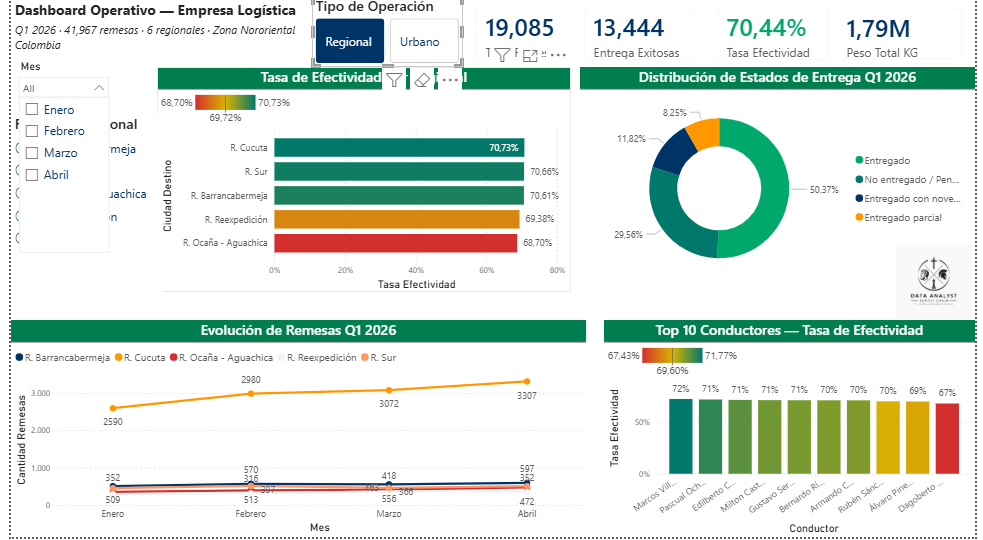

The dashboard page shown, as its layout file describes it:
{"tool":"powerbi","page":{"name":"Dashboard OP","canvas":[1280,720],"ordinal":0},"visuals":[{"type":"cardVisual","fields":{"Data":["aldia_Q1_detalle_powerbi (1).Peso Total KG"]},"box":[1080,1.7,200,101.7],"z":0},{"type":"cardVisual","fields":{"Data":["aldia_Q1_detalle_powerbi (1).Tasa Efectividad"]},"box":[920,0,183.3,103.3],"z":1000},{"type":"cardVisual","fields":{"Data":["aldia_Q1_detalle_powerbi (1).Total Remesas"]},"box":[600,0,163.3,103.3],"z":2000},{"type":"cardVisual","fields":{"Data":["aldia_Q1_detalle_powerbi (1).Entrega Exitosas"]},"box":[743.3,0,180,103.3],"z":3000},{"type":"clusteredBarChart","title":"Tasa de Efectividad por Regional","fields":{"Y":["aldia_Q1_detalle_powerbi (1).Tasa Efectividad"],"Category":["aldia_Q1_detalle_powerbi (1).Regional_clean"]},"box":[193.3,95,550,300],"z":4000},{"type":"slicer","fields":{"Values":["aldia_Q1_detalle_powerbi (1).Mes"]},"box":[0,81.7,140,76.7],"z":5000},{"type":"lineChart","title":"Evolución de Remesas Q1 2026","fields":{"Category":["aldia_Q1_detalle_powerbi (1).Mes"],"Series":["aldia_Q1_detalle_powerbi (1).Regional_clean"],"Y":["aldia_Q1_detalle_powerbi (1).Cantidad Remesas"]},"box":[0,431.7,763.9,288.3],"z":6000},{"type":"clusteredColumnChart","title":"Top 10 Conductores — Tasa de Efectividad","fields":{"Category":["aldia_Q1_detalle_powerbi (1).Conductor"],"Y":["aldia_Q1_detalle_powerbi (1).Tasa Efectividad"]},"box":[787.7,431.7,492.8,288.3],"z":7000},{"type":"donutChart","title":"Distribución de Estados de Entrega Q1 2026","fields":{"Y":["aldia_Q1_detalle_powerbi (1).Total Remesas"],"Category":["aldia_Q1_detalle_powerbi (1).Estado Agrupado"]},"box":[755.9,95.6,524.7,292.3],"z":8000},{"type":"listSlicer","fields":{"Values":["aldia_Q1_detalle_powerbi (1).Regional_clean"]},"box":[0,158.3,201.7,256.7],"z":9000},{"type":"advancedSlicerVisual","fields":{"Values":["aldia_Q1_detalle_powerbi (1).Tipo_Operacion"]},"box":[399.9,1.3,200.6,94.3],"z":10000},{"type":"image","box":[1170.3,330.8,110.3,101],"z":11000},{"type":"textbox","box":[0,1.5,399.5,80.5],"z":12000},{"type":"textbox","box":[0,30.7,399.5,51.2],"z":13000}]}

Visuals, with their boxes on the page's 1280x720 design canvas (x1, y1, x2, y2). These are canvas units, not pixel positions in the 983x540 screenshot, which may show the page scaled, cropped or inside an application window:
cardVisual - aldia_Q1_detalle_powerbi (1).Peso Total KG: <bbox>1080, 2, 1280, 103</bbox>
cardVisual - aldia_Q1_detalle_powerbi (1).Tasa Efectividad: <bbox>920, 0, 1103, 103</bbox>
cardVisual - aldia_Q1_detalle_powerbi (1).Total Remesas: <bbox>600, 0, 763, 103</bbox>
cardVisual - aldia_Q1_detalle_powerbi (1).Entrega Exitosas: <bbox>743, 0, 923, 103</bbox>
"Tasa de Efectividad por Regional" clusteredBarChart: <bbox>193, 95, 743, 395</bbox>
slicer - aldia_Q1_detalle_powerbi (1).Mes: <bbox>0, 82, 140, 158</bbox>
"Evolución de Remesas Q1 2026" lineChart: <bbox>0, 432, 764, 720</bbox>
"Top 10 Conductores — Tasa de Efectividad" clusteredColumnChart: <bbox>788, 432, 1280, 720</bbox>
"Distribución de Estados de Entrega Q1 2026" donutChart: <bbox>756, 96, 1281, 388</bbox>
listSlicer - aldia_Q1_detalle_powerbi (1).Regional_clean: <bbox>0, 158, 202, 415</bbox>
advancedSlicerVisual - aldia_Q1_detalle_powerbi (1).Tipo_Operacion: <bbox>400, 1, 600, 96</bbox>
image: <bbox>1170, 331, 1281, 432</bbox>
textbox: <bbox>0, 2, 400, 82</bbox>
textbox: <bbox>0, 31, 400, 82</bbox>
